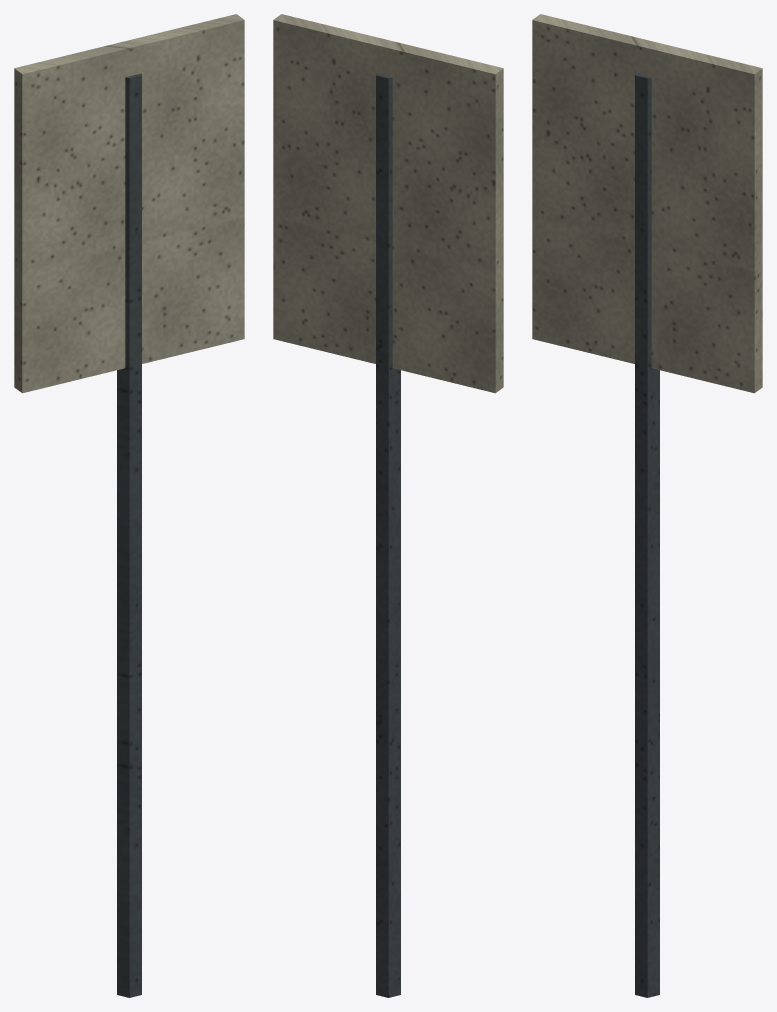
File: PROP-44C775E16189_lod2.glb
The picture shows the model from 3 angles, left to right: view 1: azimuth 30°, elevation 25°; view 2: azimuth 150°, elevation 25°; view 3: azimuth 330°, elevation 25°; orthographic projection.
Parts seen in each view (by area): view 1: sign_plate.019, sign_post.026; view 2: sign_plate.019, sign_post.026; view 3: sign_plate.019, sign_post.026.
Boxes of the visible parts, x1,y1,x2,y2 form: sign_plate.019: [14, 14, 244, 393]; sign_post.026: [117, 73, 141, 997]; sign_plate.019: [273, 14, 503, 393]; sign_post.026: [376, 73, 400, 997]; sign_plate.019: [532, 14, 762, 393]; sign_post.026: [635, 73, 659, 997].
Bounding box in the file's own units: 0.62 × 2.52 × 0.0606.
Materials: 2 (2 with a texture image).
